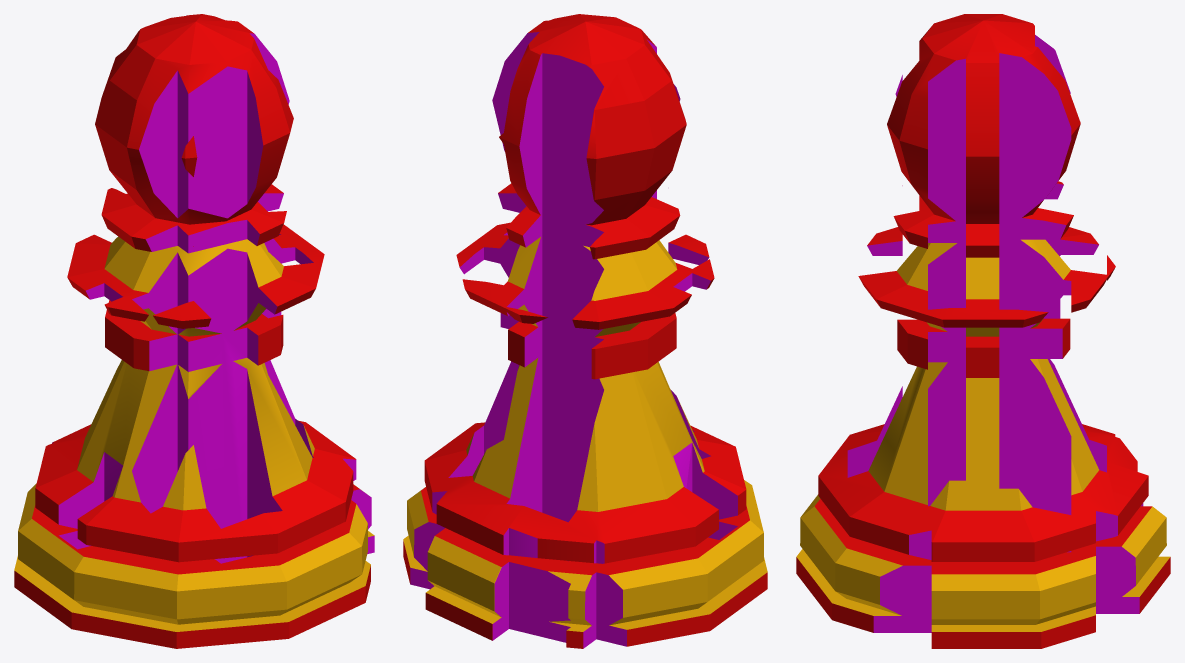
Rendered from Pawn_Glitch.fbx.
The picture shows the model from 3 angles, left to right: view 1: azimuth 30°, elevation 25°; view 2: azimuth 150°, elevation 25°; view 3: azimuth 270°, elevation 25°; orthographic projection.
Visible parts, largest first — view 1: PawnLow_Glitch; view 2: PawnLow_Glitch; view 3: PawnLow_Glitch.
Boxes of the visible parts, x1,y1,x2,y2 form: PawnLow_Glitch: (14, 14, 374, 648); PawnLow_Glitch: (403, 14, 767, 648); PawnLow_Glitch: (796, 14, 1170, 648).
Bounding box in the file's own units: 0.8073 × 1.38 × 0.8488.
